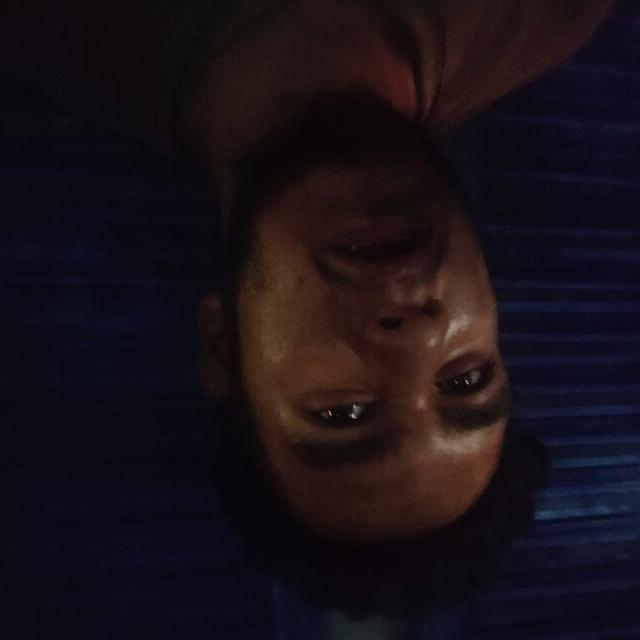Disgust: (117, 119, 603, 569)
